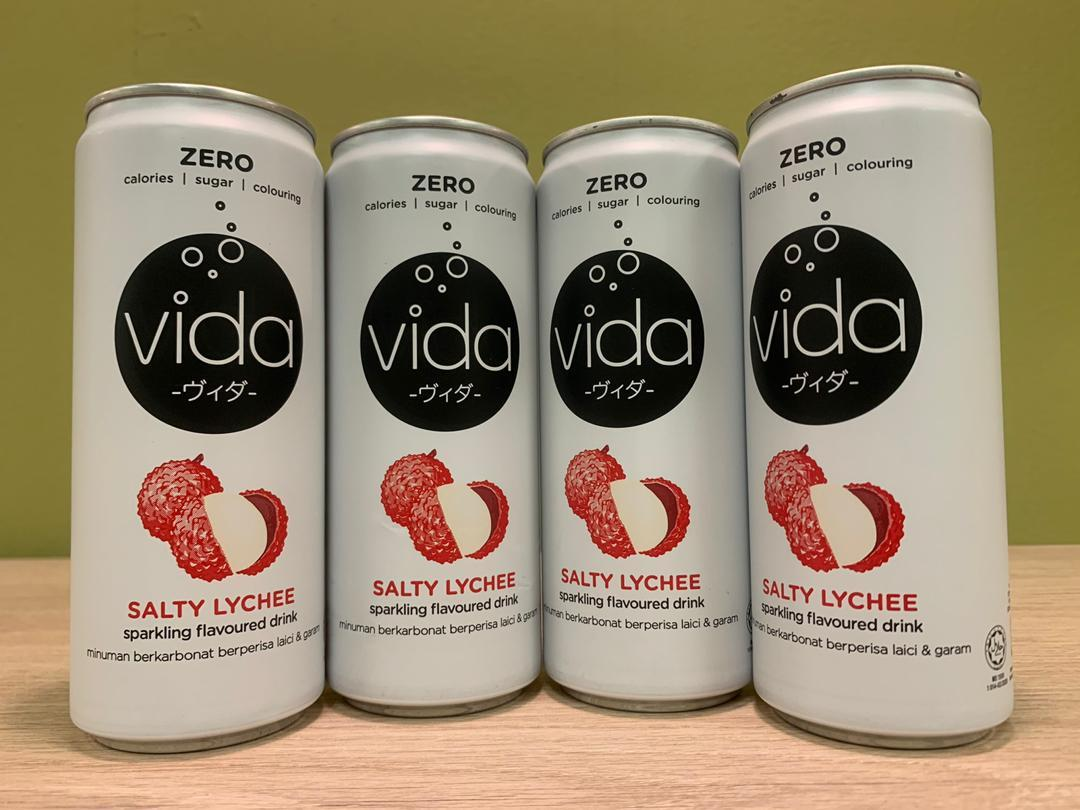metal: (739, 51, 1039, 757), (53, 74, 333, 767), (533, 106, 758, 730), (316, 109, 544, 721)
